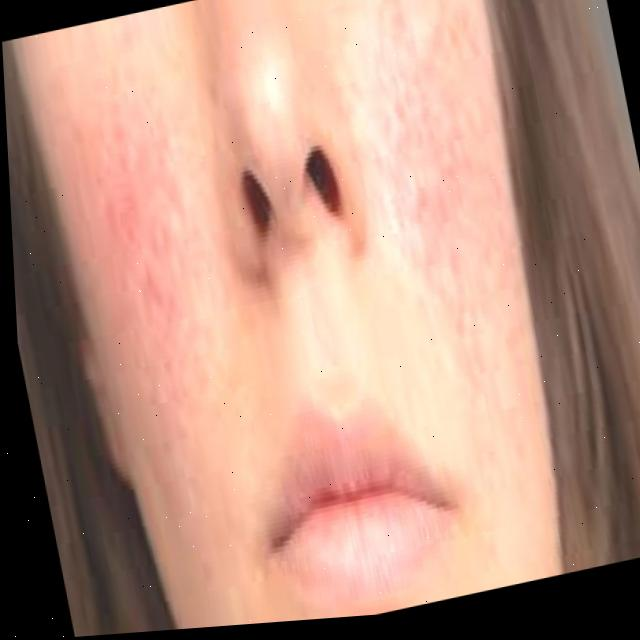Rosacea: (46, 89, 238, 474), (370, 10, 534, 327)
